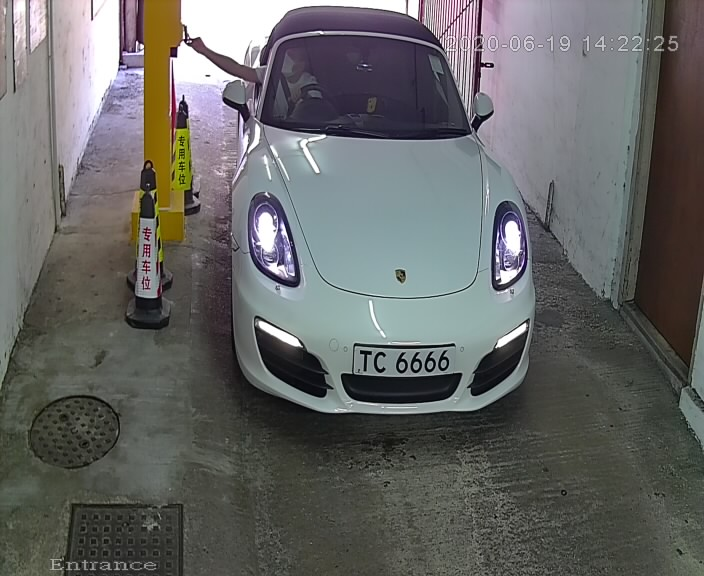privatecar: (218, 12, 534, 423)
